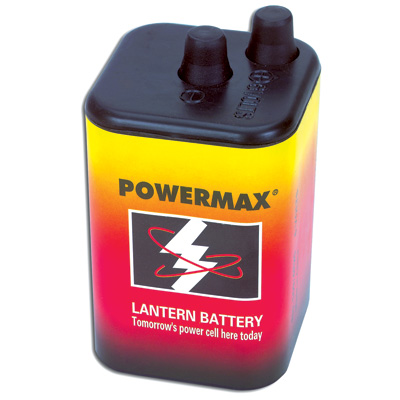6V: (71, 4, 336, 394)
